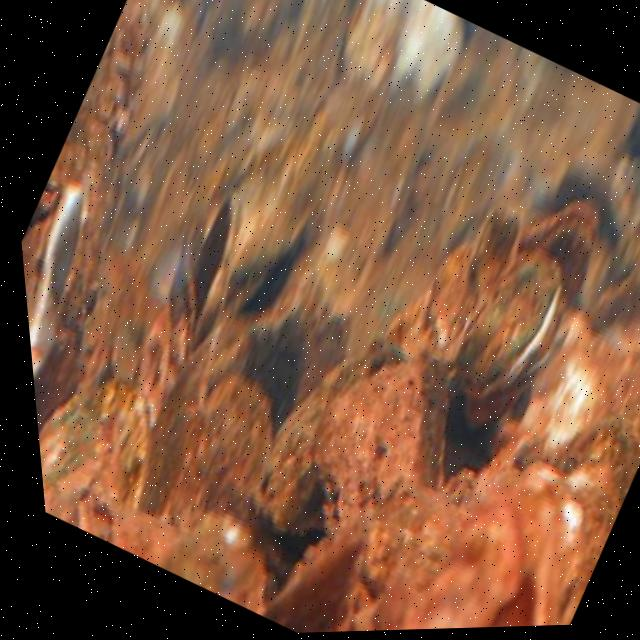Oyster-Closed: (459, 252, 564, 393), (525, 203, 597, 295)
Oyster-Indeterminate: (44, 485, 271, 614), (257, 352, 407, 537), (313, 359, 448, 531), (170, 376, 278, 518), (39, 392, 141, 541), (138, 336, 214, 515), (259, 532, 372, 633)
Oyster-Open: (28, 186, 98, 375), (169, 199, 240, 363)
